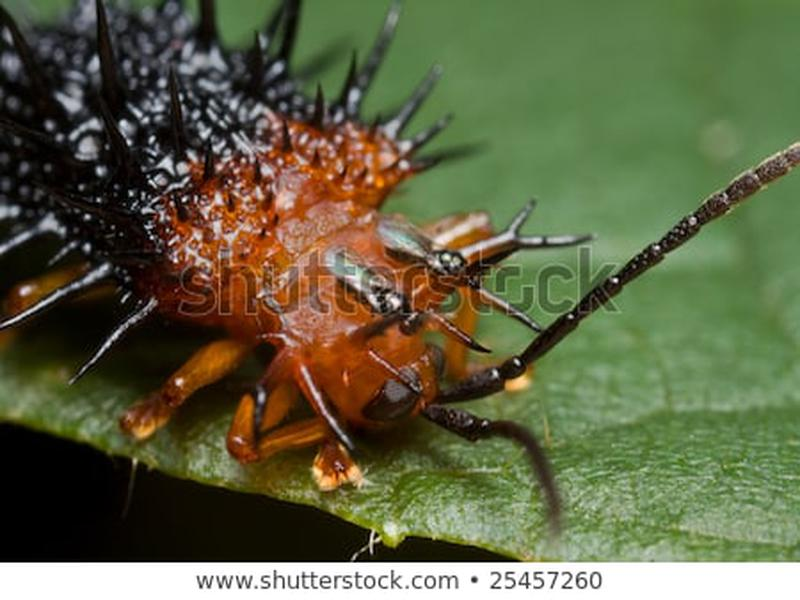Spiny_beetle: (43, 31, 535, 429)
